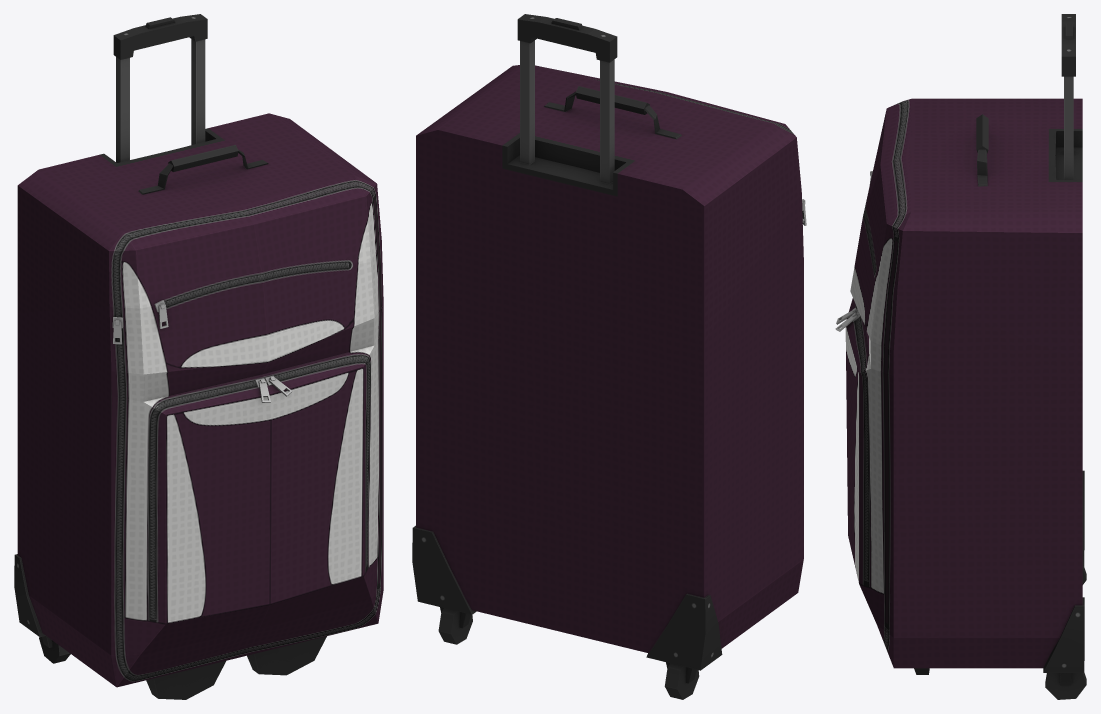
The model's file is luggage_-_low_poly.glb.
The picture shows the model from 3 angles, left to right: view 1: azimuth 30°, elevation 25°; view 2: azimuth 150°, elevation 25°; view 3: azimuth 270°, elevation 25°; orthographic projection. The views are drawn at different scales.
Parts seen in each view (by area): view 1: Object_2; view 2: Object_2; view 3: Object_2.
Part boxes in pixels (x1=…): Object_2: x1=14, y1=14, x2=383, y2=699; Object_2: x1=412, y1=14, x2=806, y2=699; Object_2: x1=835, y1=14, x2=1086, y2=699.
Bounding box in the file's own units: 3 × 6.32 × 2.34.
1 material, 1 textured.
